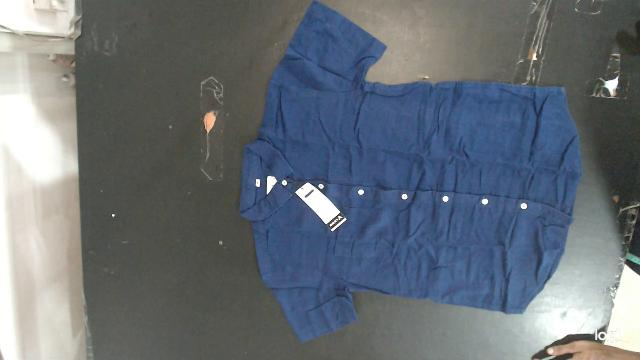new-garment: (240, 1, 581, 341)
